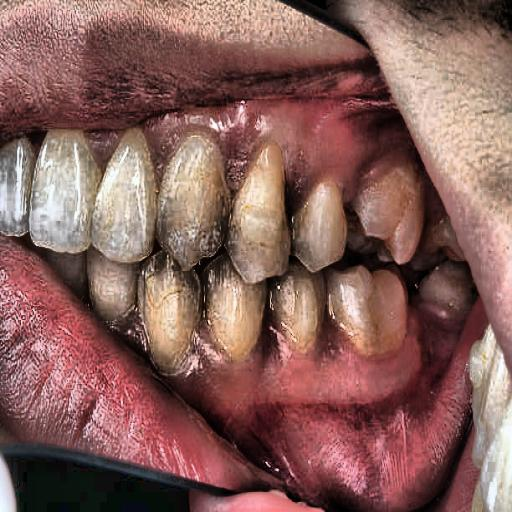Calculus: (108, 52, 470, 381)
